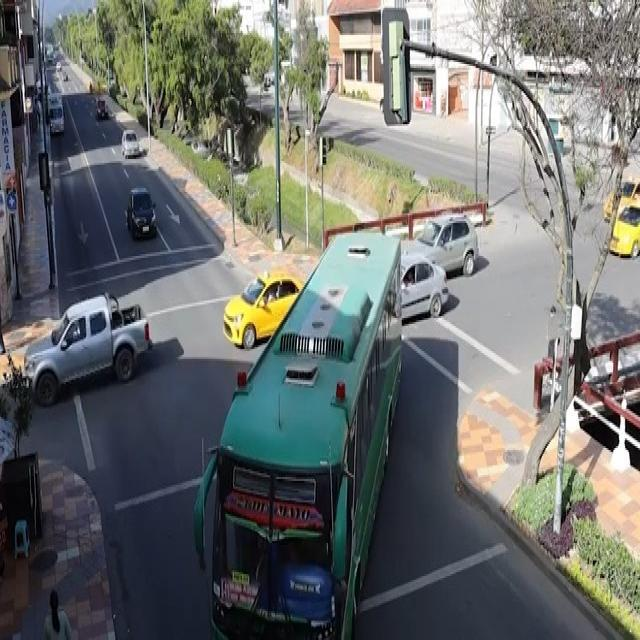BUS: (194, 232, 401, 640)
CMT: (25, 298, 148, 402)
